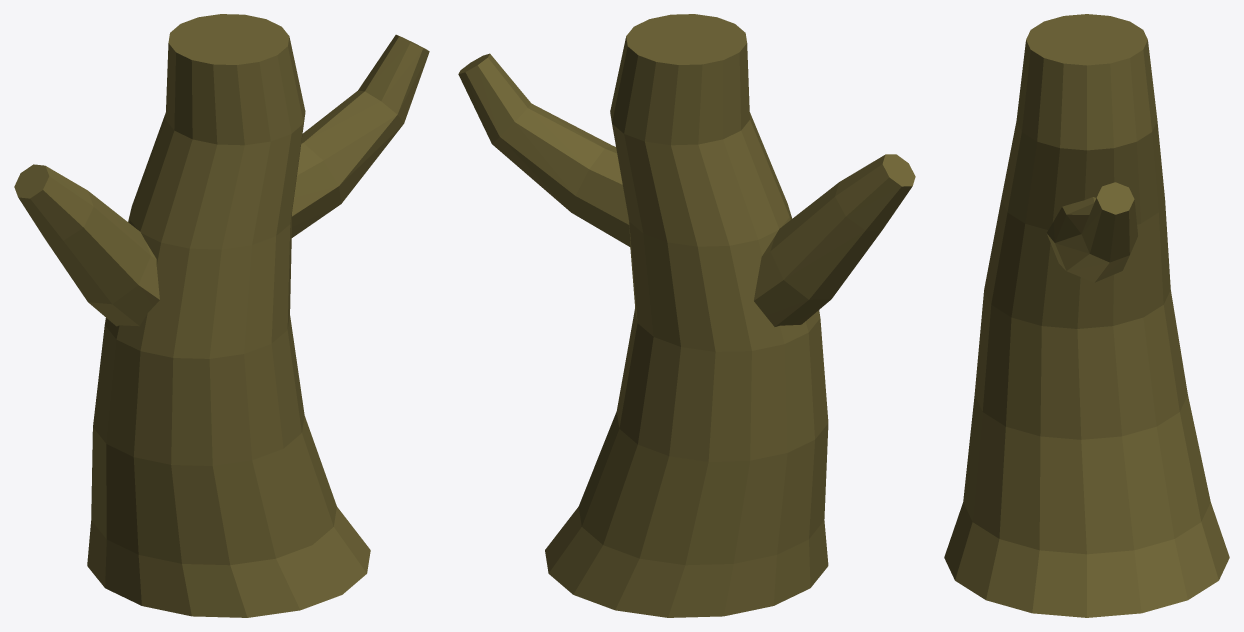
Rendered from WillowTrunk.glb.
3 renders of one model, left to right at view 1: azimuth 30°, elevation 25°; view 2: azimuth 150°, elevation 25°; view 3: azimuth 270°, elevation 25°, orthographic.
Visible parts, largest first — view 1: WillowTrunk_WillowBark; view 2: WillowTrunk_WillowBark; view 3: WillowTrunk_WillowBark.
Part boxes in pixels (box(x1,y1,x2,y2)): WillowTrunk_WillowBark: box(14, 14, 429, 617); WillowTrunk_WillowBark: box(458, 14, 915, 617); WillowTrunk_WillowBark: box(944, 14, 1229, 617).
Size of the model in its own units: 2.61 by 3 by 1.5.
